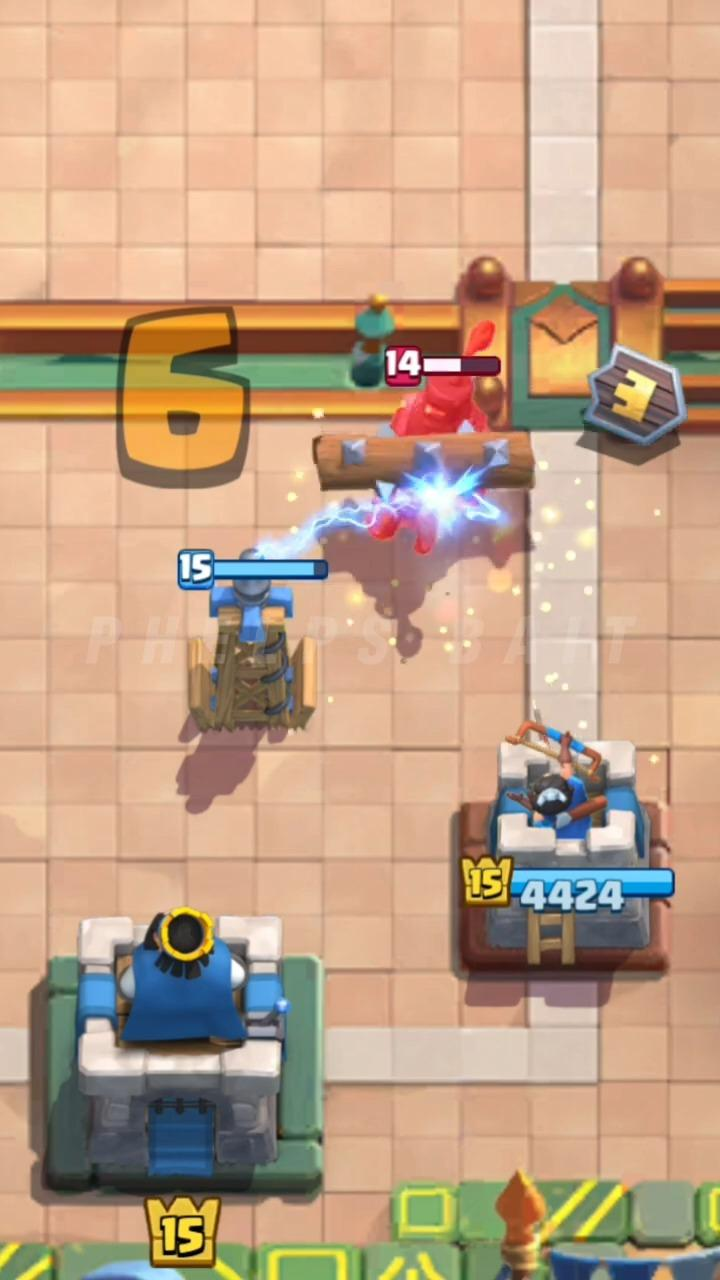dark prince: (390, 375, 487, 436)
log: (313, 432, 534, 491)
tesla: (188, 579, 316, 733)
